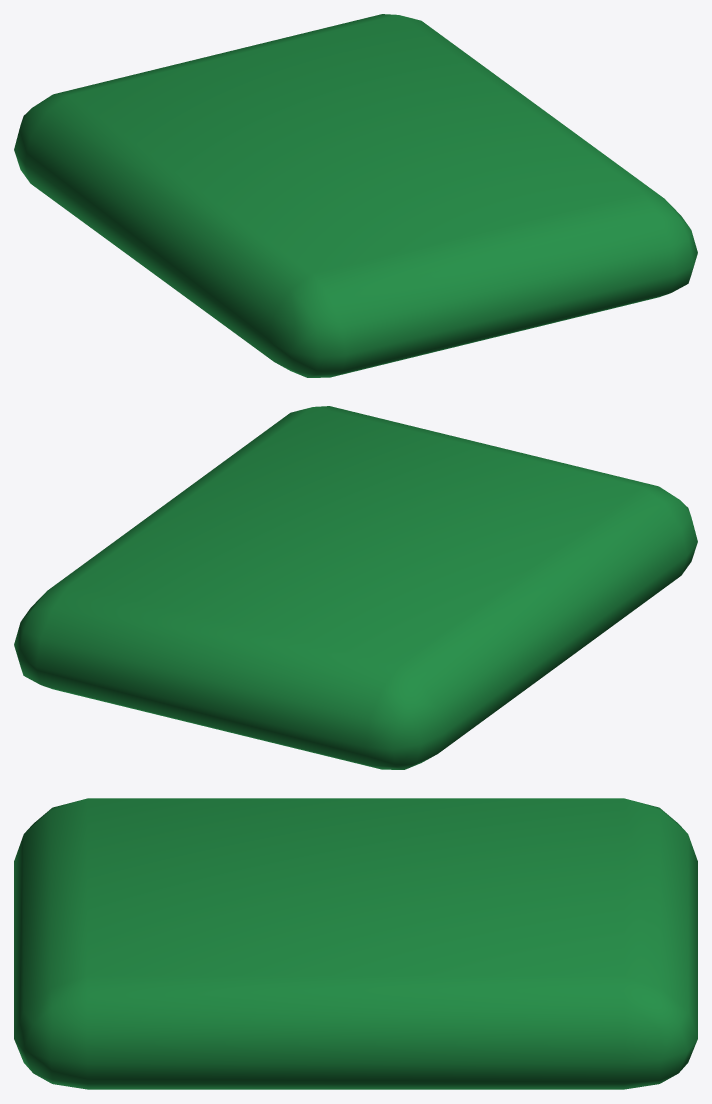
Rendered from Plateforme_Rotative.fbx.
3 views of the same model, one above another, from view 1: azimuth 30°, elevation 25°; view 2: azimuth 150°, elevation 25°; view 3: azimuth 270°, elevation 25° (orthographic). The views are drawn at different scales.
Parts seen in each view (by area): view 1: Cube.013; view 2: Cube.013; view 3: Cube.013.
Part boxes in pixels (x1,y1,x2,y2): Cube.013: (14,14,697,377); Cube.013: (14,406,697,769); Cube.013: (14,798,697,1089).
Size of the model in its own units: 499 by 106 by 639.
